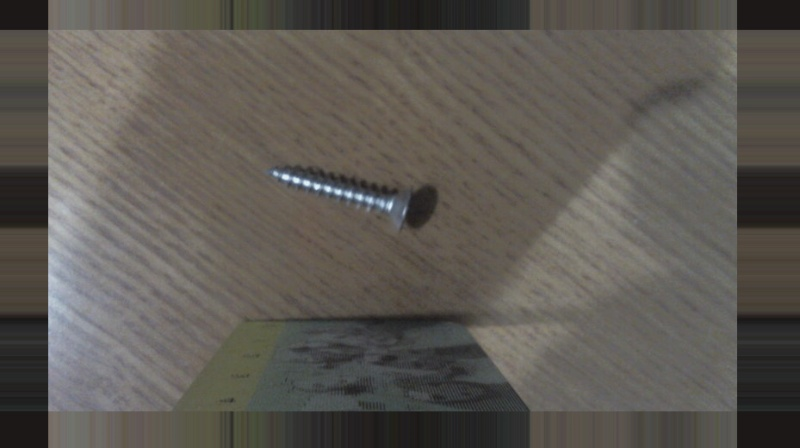S001: (264, 159, 416, 236)
